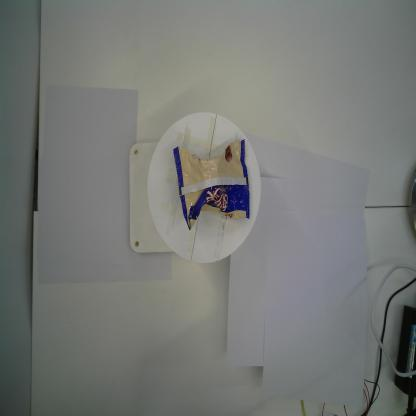Dessert: (172, 138, 252, 232)
